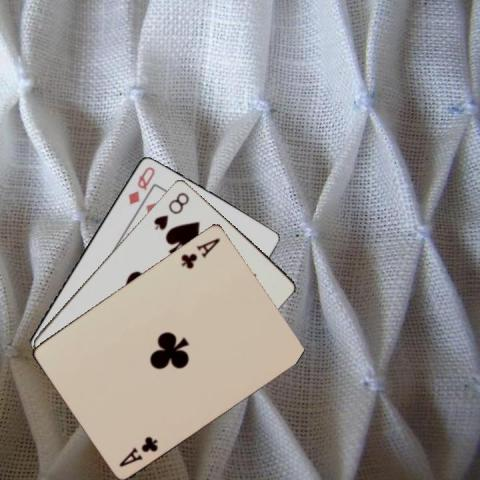8s: (150, 189, 191, 231)
Ac: (178, 234, 222, 270), (116, 433, 159, 468)
Qd: (125, 164, 156, 206)
